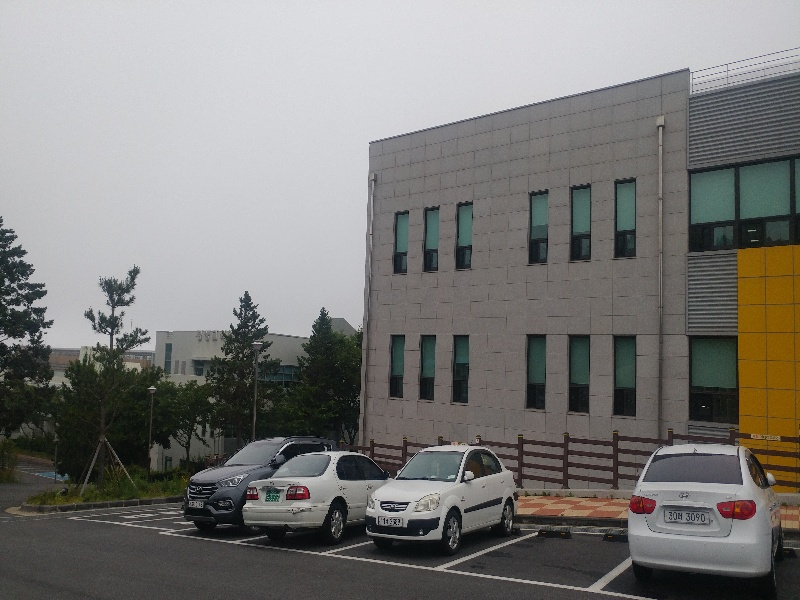Digital Library: (372, 103, 800, 444)
